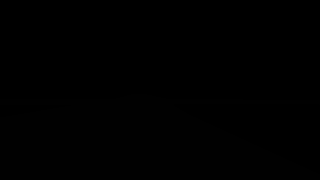go_ahead: (174, 61, 189, 75)
